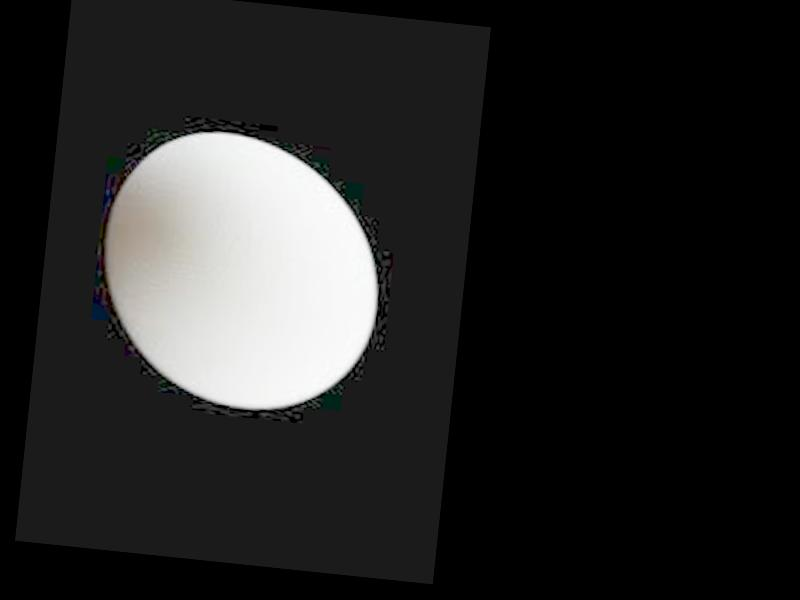Eggs: (94, 121, 392, 419)
